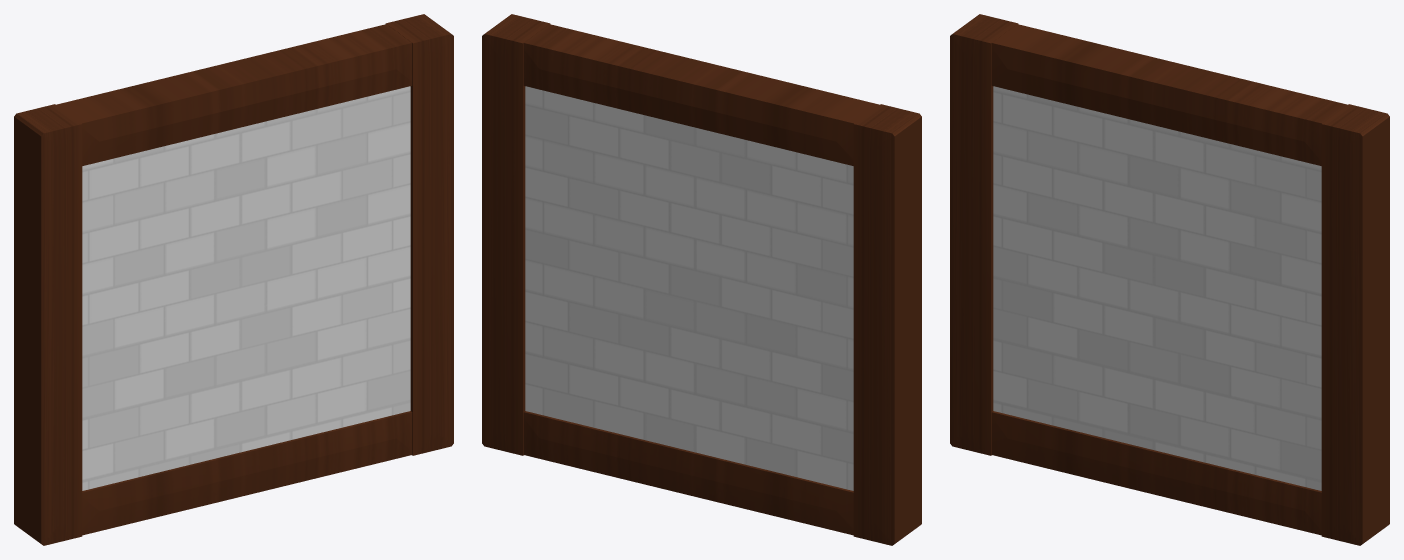
Rendered from Wall_Brick.fbx.
3 renders of one model, left to right at view 1: azimuth 30°, elevation 25°; view 2: azimuth 150°, elevation 25°; view 3: azimuth 330°, elevation 25°, orthographic.
Visible parts, largest first — view 1: Wall; view 2: Wall; view 3: Wall.
Boxes of the visible parts, <box> form: Wall: <box>14,14,453,545</box>; Wall: <box>482,14,921,545</box>; Wall: <box>950,14,1389,545</box>.
Bounding box in the file's own units: 212 × 202 × 26.17.
